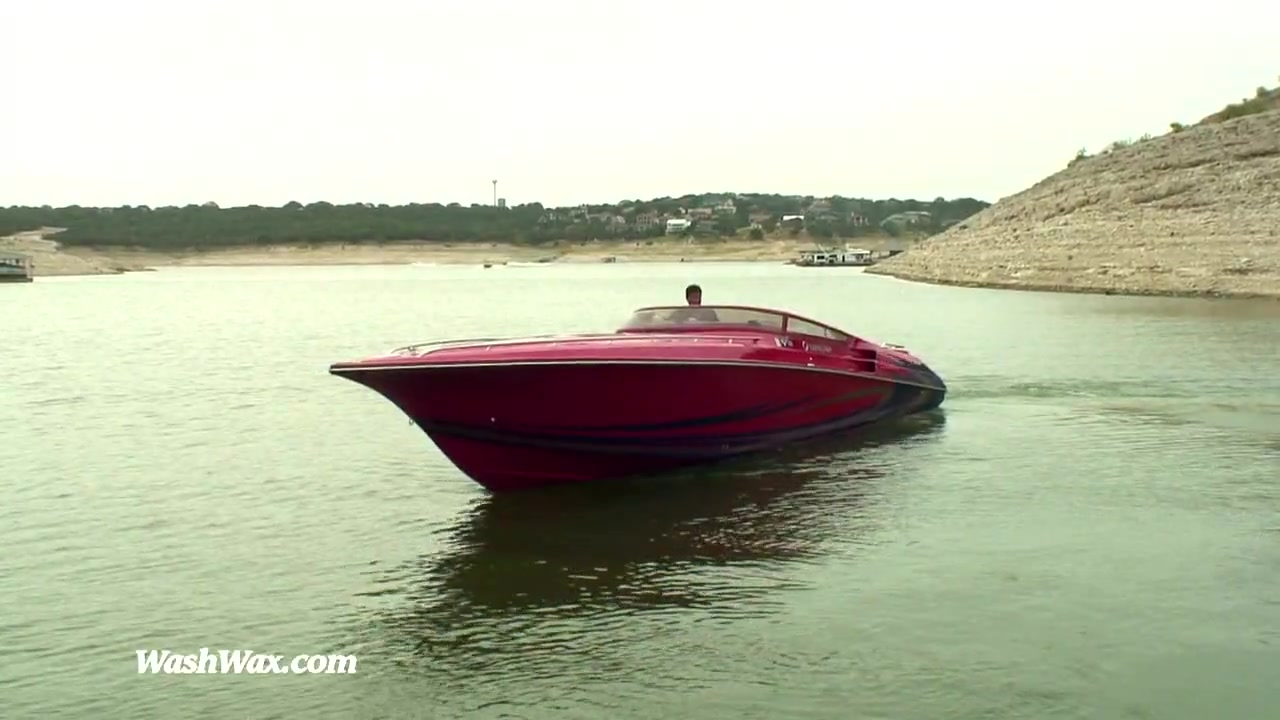boat: (327, 304, 949, 489)
